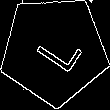L_NW: (26, 24, 82, 77)
